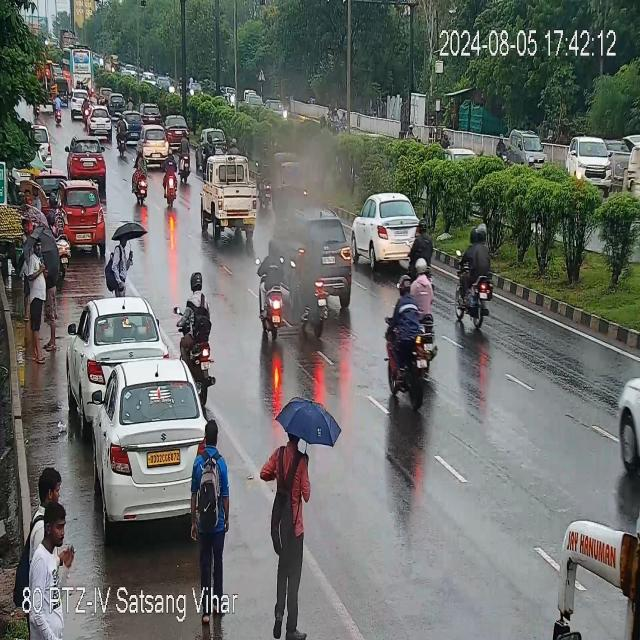2-wheelers: (382, 266, 442, 411), (455, 228, 502, 337), (180, 271, 217, 404), (298, 238, 328, 339), (259, 238, 285, 339), (130, 148, 151, 204), (159, 154, 179, 210), (173, 137, 193, 184), (180, 137, 198, 180), (114, 118, 129, 154), (202, 131, 214, 175), (52, 96, 67, 124), (83, 98, 87, 129)
auto: (270, 156, 307, 202)
bus: (548, 493, 638, 639), (68, 51, 94, 88)
car: (86, 363, 216, 530), (69, 294, 167, 404), (268, 209, 352, 304), (198, 155, 260, 244), (350, 191, 419, 265), (58, 179, 106, 251), (565, 135, 617, 185), (65, 138, 109, 180), (505, 130, 551, 168), (137, 127, 172, 165), (88, 105, 114, 136), (34, 124, 54, 164), (117, 115, 144, 144), (164, 114, 191, 139), (106, 93, 129, 117), (139, 102, 164, 124), (70, 92, 82, 119)
pedestrian: (260, 417, 313, 640), (193, 419, 231, 583), (26, 459, 64, 541), (28, 506, 68, 582), (29, 238, 45, 360), (107, 232, 130, 302), (20, 220, 31, 318), (46, 272, 58, 348), (31, 187, 42, 212), (22, 191, 32, 204)
